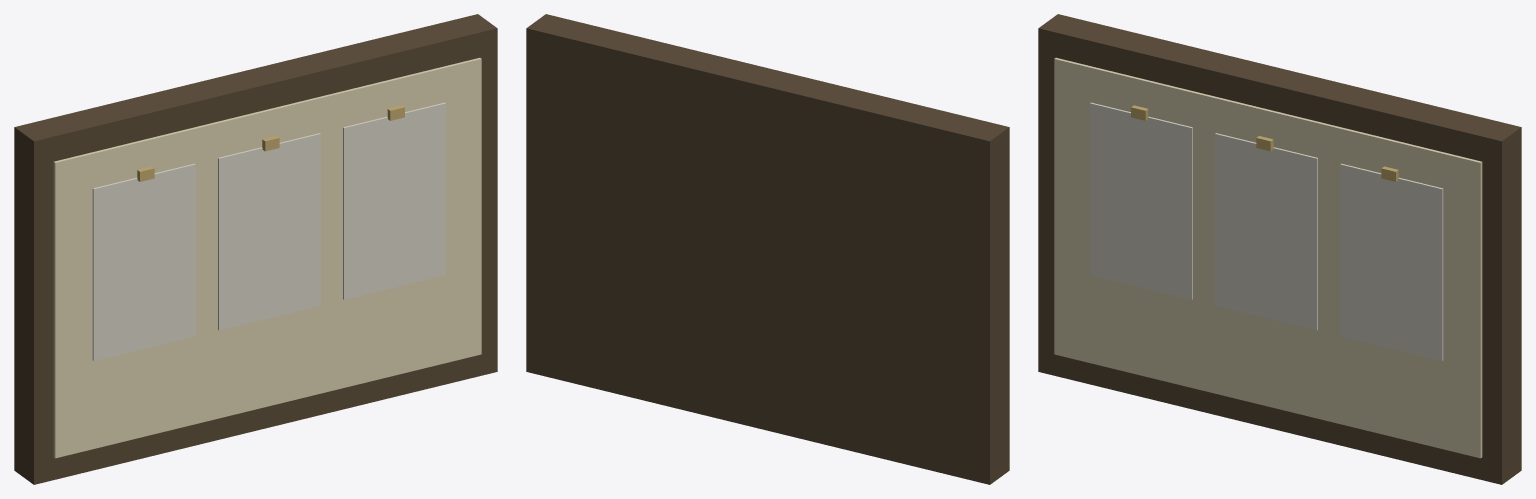
The model's file is blender_objective_board_1.glb.
3 renders of one model, left to right at view 1: azimuth 30°, elevation 25°; view 2: azimuth 150°, elevation 25°; view 3: azimuth 330°, elevation 25°, orthographic.
Parts seen in each view (by area): view 1: blender_objective_board_1; view 2: blender_objective_board_1; view 3: blender_objective_board_1.
Part boxes in pixels (x1=…): blender_objective_board_1: x1=14, y1=14, x2=497, y2=484; blender_objective_board_1: x1=526, y1=14, x2=1009, y2=484; blender_objective_board_1: x1=1038, y1=14, x2=1521, y2=484.
Size of the model in its own units: 0.48 by 0.34 by 0.047.
1 material, 1 textured.
